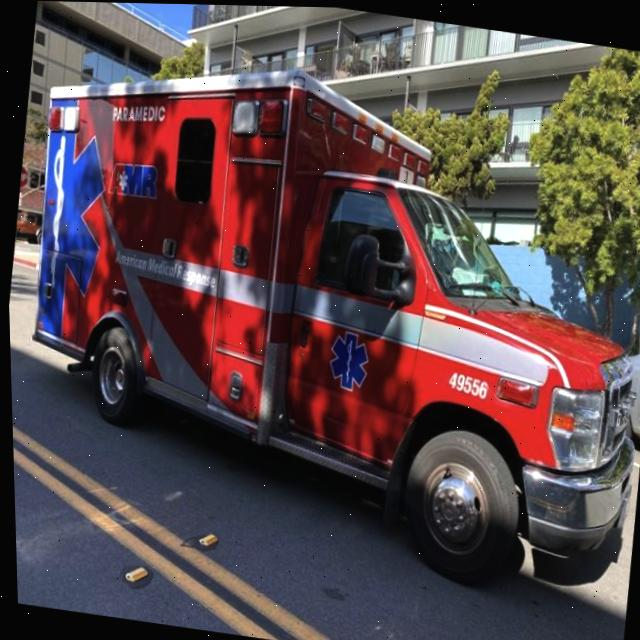emergency: (239, 69, 640, 604)
